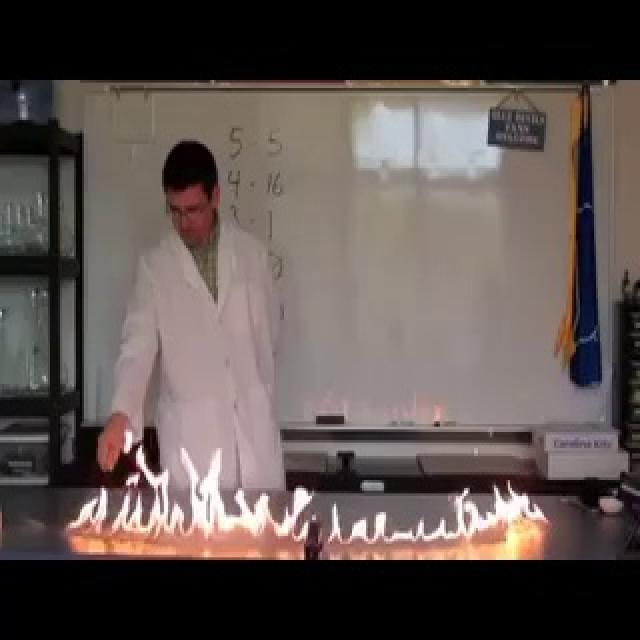Fire: (62, 442, 552, 561)
